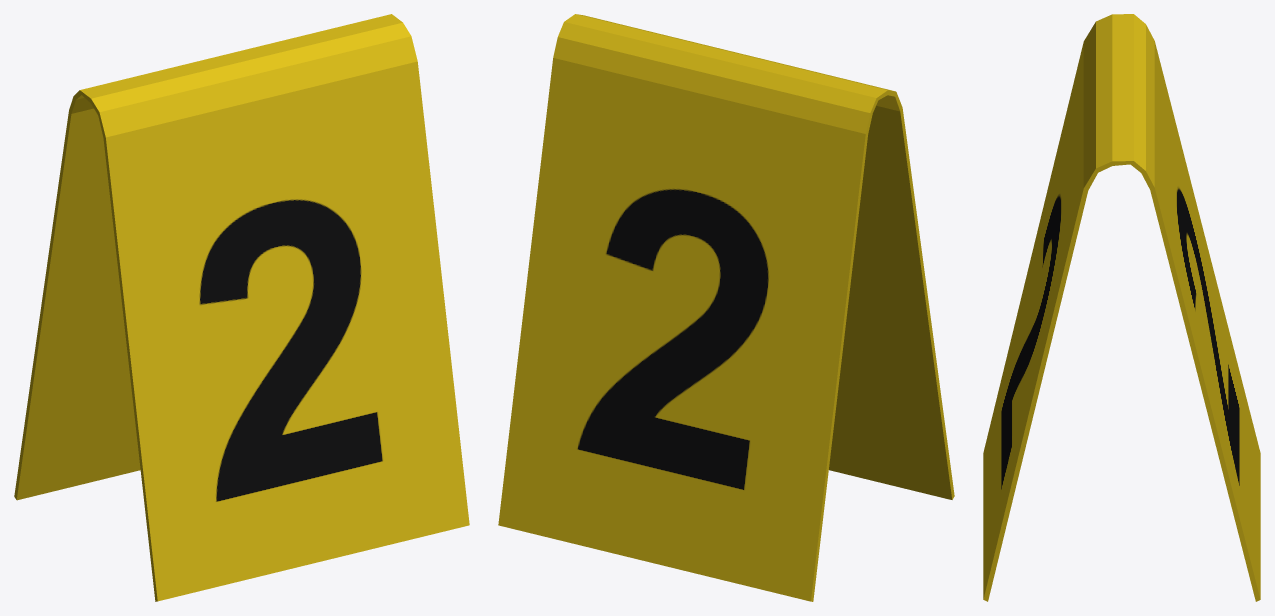
File: ClueSign 2 NEW.fbx
3 views of the same model, side by side, from view 1: azimuth 30°, elevation 25°; view 2: azimuth 150°, elevation 25°; view 3: azimuth 270°, elevation 25° (orthographic). The views are drawn at different scales.
Parts seen in each view (by area): view 1: ClueSign 2; view 2: ClueSign 2; view 3: ClueSign 2.
Part boxes in pixels (bbox=[...]): ClueSign 2: bbox=[14, 14, 469, 601]; ClueSign 2: bbox=[498, 14, 954, 601]; ClueSign 2: bbox=[983, 14, 1260, 601].
Bounding box in the file's own units: 126 × 177 × 101.
